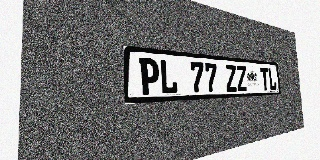7: (189, 62, 205, 93), (204, 63, 218, 93)
L: (159, 59, 178, 94), (268, 68, 277, 90)
P: (139, 58, 160, 95)
T: (260, 67, 269, 90)
Z: (225, 64, 237, 92), (236, 65, 247, 91)
